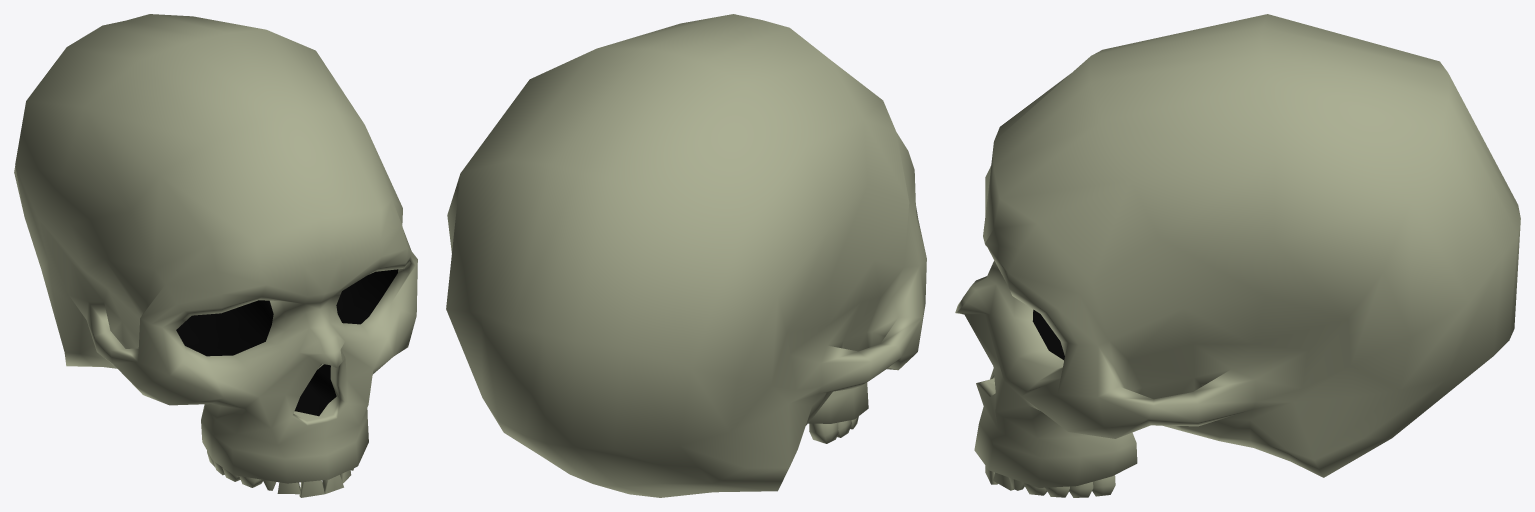
File: Skull_Model.fbx
3 views of the same model, side by side, from view 1: azimuth 30°, elevation 25°; view 2: azimuth 150°, elevation 25°; view 3: azimuth 270°, elevation 25° (orthographic). The views are drawn at different scales.
Parts seen in each view (by area): view 1: Skull_Geo_002; view 2: Skull_Geo_002, pCube14; view 3: Skull_Geo_002.
Part boxes in pixels (<box>): Skull_Geo_002: <box>14,14,417,483</box>; Skull_Geo_002: <box>446,14,926,497</box>; pCube14: <box>809,422,838,443</box>; Skull_Geo_002: <box>955,14,1520,487</box>.
Size of the model in its own units: 11.08 by 13.79 by 16.34.
